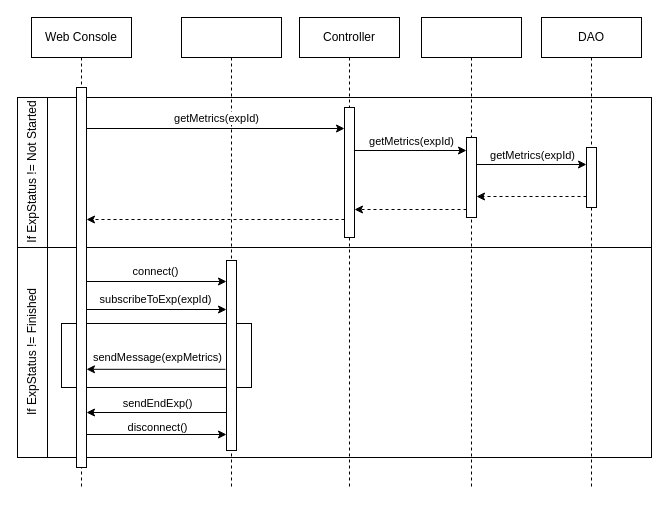
Some shapes in this 669 by 505 pixel diagram are drawn without their labels. The box of each missing label's shape, as (x1, y1, x2, y2) in pixels:
ForEachMessage: (60, 322, 252, 388)
Service: (420, 16, 522, 488)
WebSocket: (180, 16, 282, 488)
